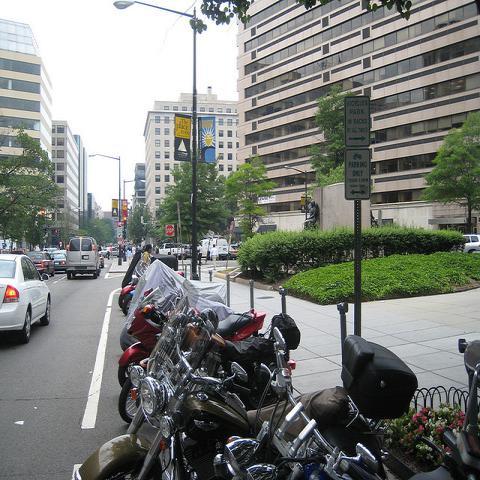car: (0, 253, 52, 344), (26, 249, 56, 277), (460, 233, 479, 256), (158, 243, 182, 260), (208, 239, 228, 258), (52, 252, 66, 270), (179, 243, 192, 261), (43, 246, 67, 253), (228, 244, 238, 260)
motorcycle: (78, 313, 322, 478), (118, 285, 266, 388), (213, 410, 414, 473), (120, 261, 225, 351), (212, 310, 303, 376), (302, 387, 386, 456), (159, 277, 238, 328), (117, 256, 183, 308)
truck: (65, 237, 104, 280)
